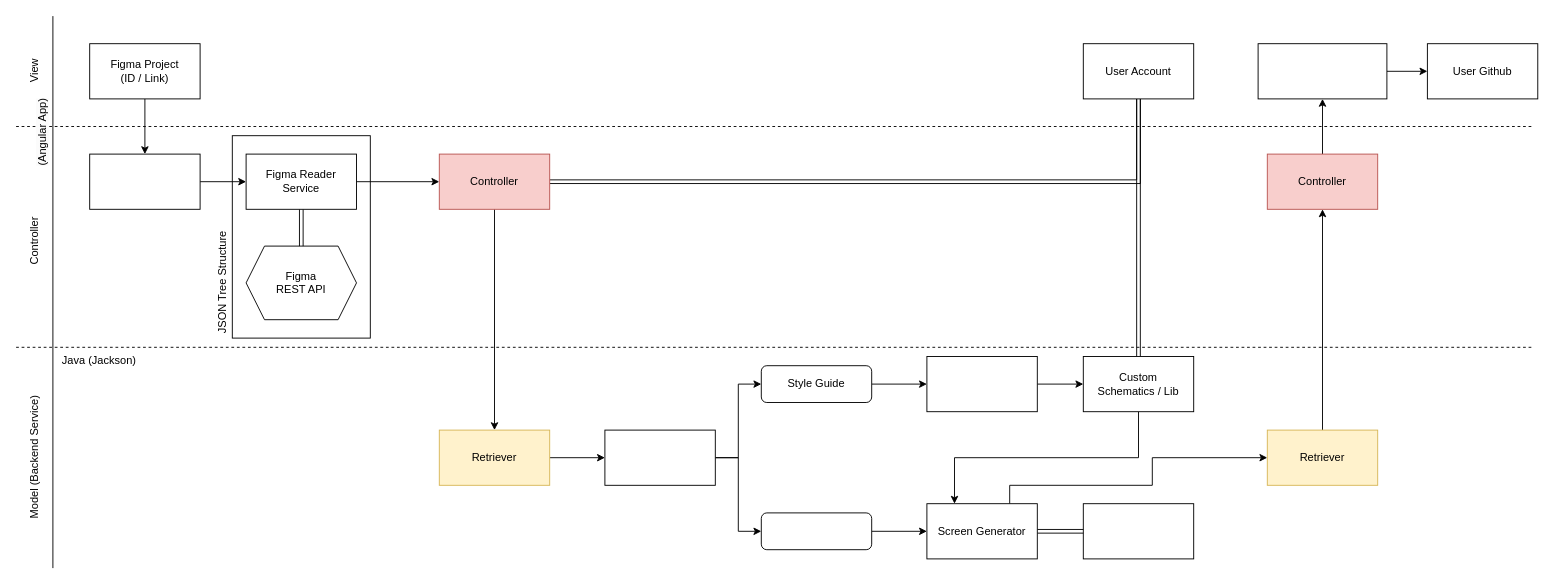
This 1554x585 diagram has some shape labels left out. The shapes that lost their labels are listed below. From the top down, each one's centre as x and y in pixels, then its label:
(x=1322, y=71): Downloadable Angular Project as zip
(x=144, y=181): Figma Reader Component
(x=981, y=384): Angular Generator
(x=659, y=457): JSON Segmenter
(x=816, y=531): Screen Mockups
(x=1138, y=531): Component Placer
